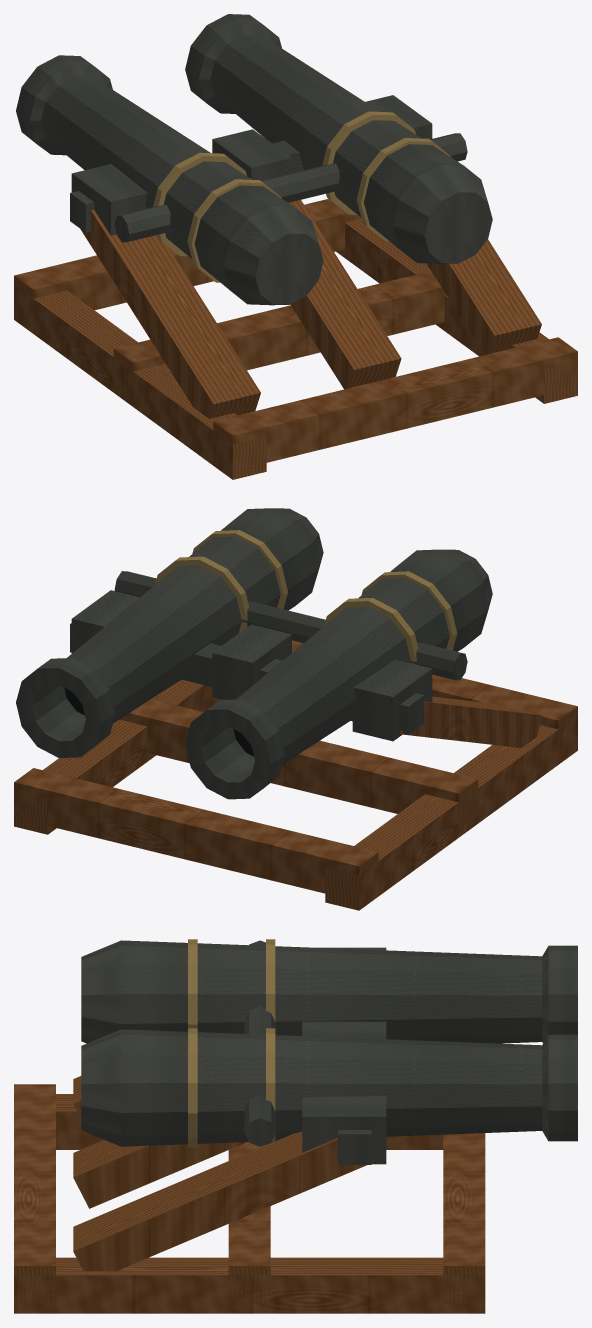
File: double-cannon.glb
The picture shows the model from 3 angles, top to bottom: view 1: azimuth 30°, elevation 25°; view 2: azimuth 150°, elevation 25°; view 3: azimuth 270°, elevation 25°; orthographic projection. The views are drawn at different scales.
Parts seen in each view (by area): view 1: barrel, frame, turntable; view 2: barrel, frame, turntable; view 3: barrel, frame, turntable.
Part boxes in pixels (<box>): barrel: <box>16,14,492,305</box>; frame: <box>14,199,577,479</box>; turntable: <box>70,95,541,418</box>; barrel: <box>16,508,492,799</box>; frame: <box>14,640,577,910</box>; turntable: <box>70,590,541,747</box>; barrel: <box>81,939,577,1147</box>; frame: <box>14,1084,485,1313</box>; turntable: <box>73,947,386,1270</box>.
Size of the model in its own units: 2.04 by 1.22 by 2.68.
Materials: 1 (1 with a texture image).
